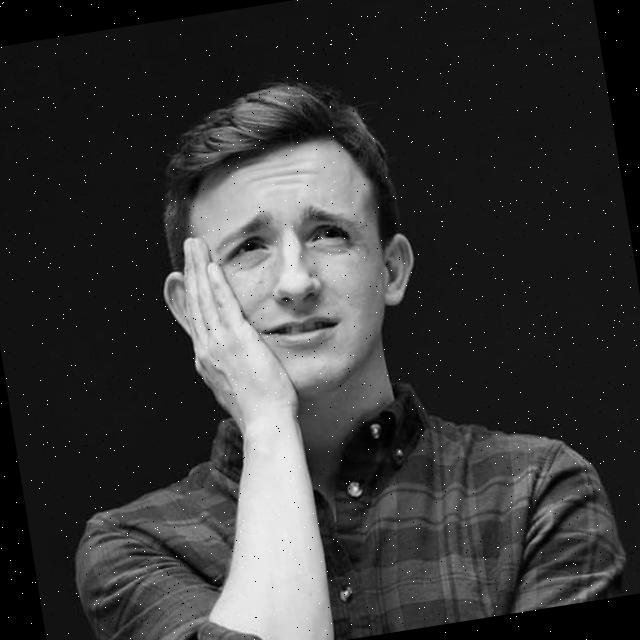Sadness: (185, 132, 390, 412)
